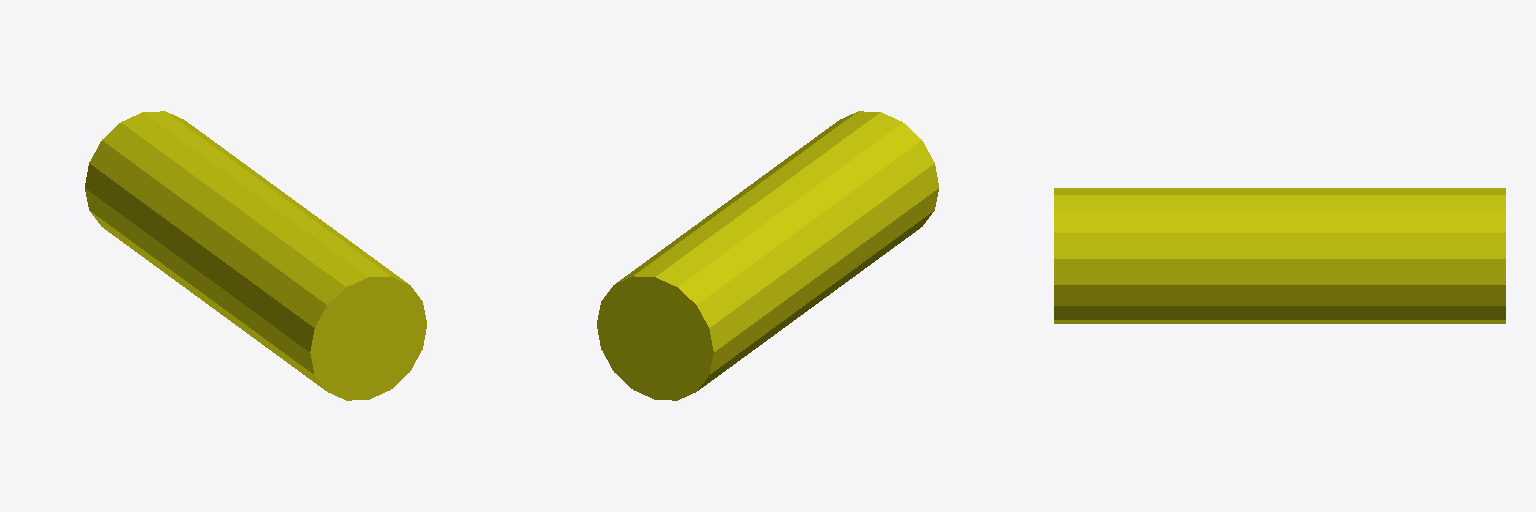
The model's file is pipe_1meter.obj.
3 views of the same model, side by side, from view 1: azimuth 30°, elevation 25°; view 2: azimuth 150°, elevation 25°; view 3: azimuth 270°, elevation 25° (orthographic).
Size of the model in its own units: 3 by 3 by 10.